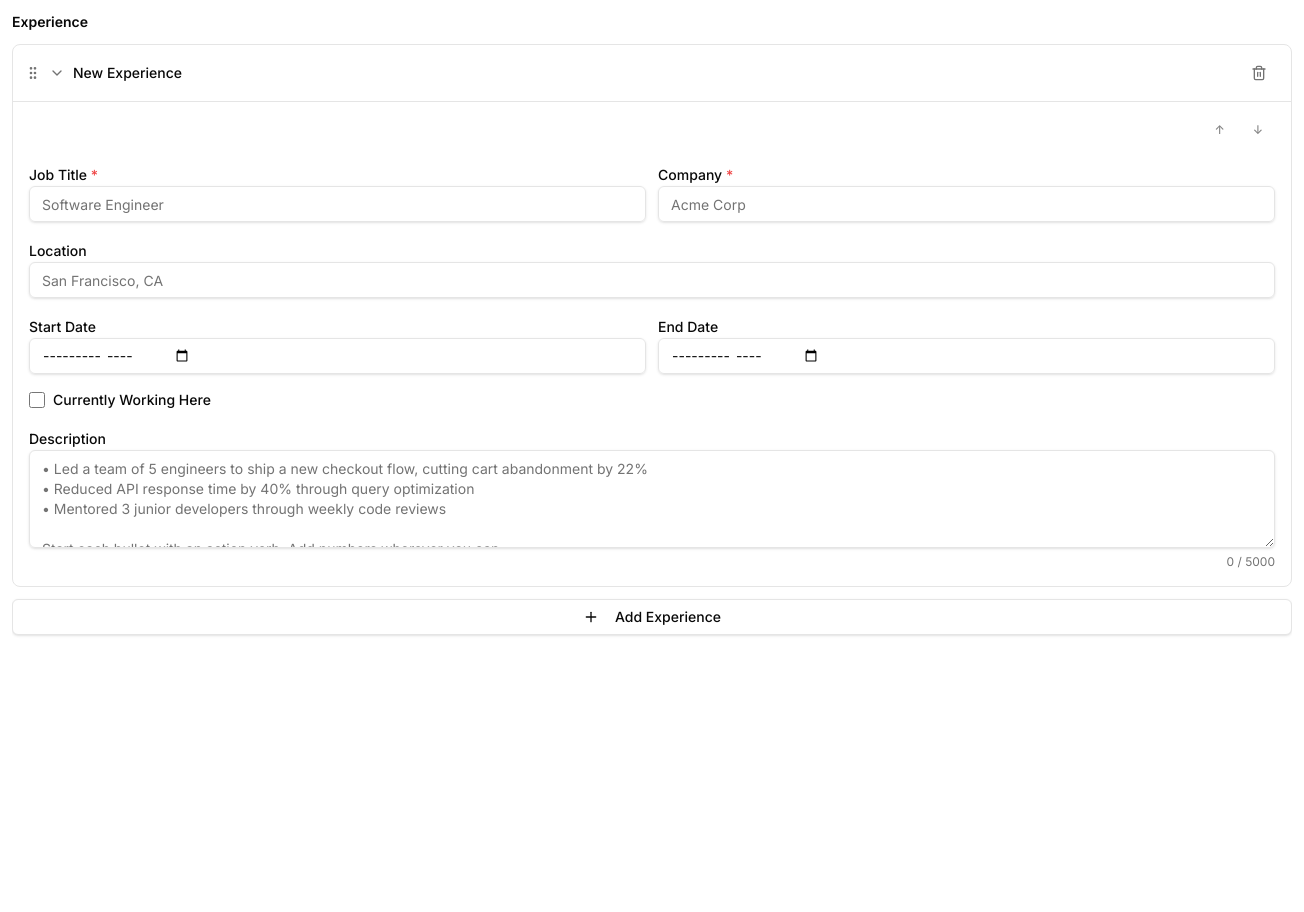
ExperienceForm — field updates › typing in Company updates the store
This screenshot has width=1304, height=912.
Type "Acme Inc" into the field labelled "Company *" at (966,204), box left=658, top=186, right=1275, bottom=222
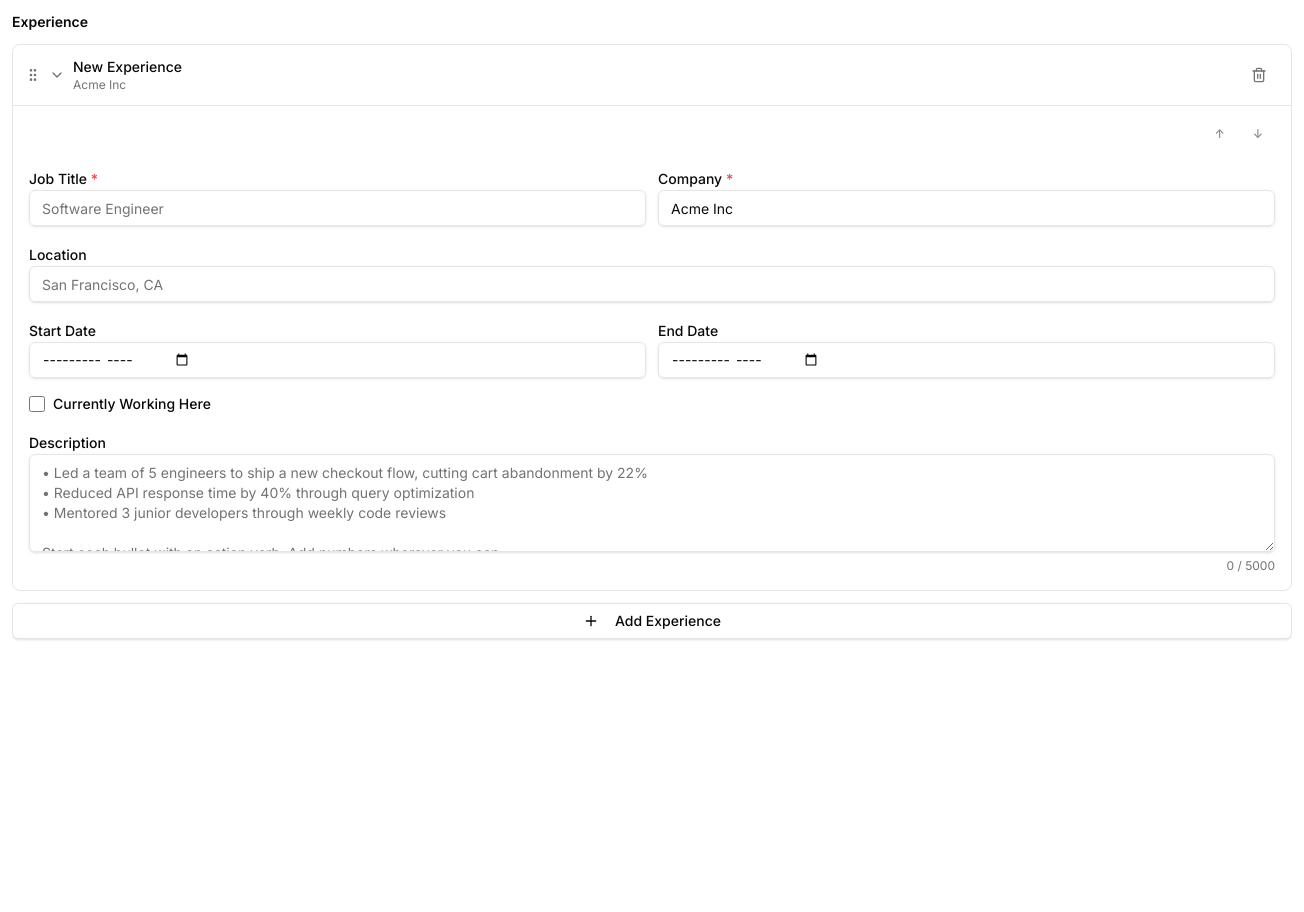
Now the text "Acme Inc" is shown, box left=73, top=77, right=126, bottom=92
